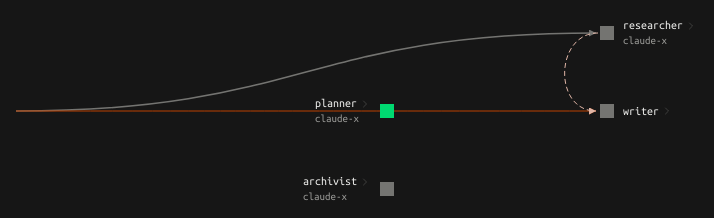
it: GraphField agents › counts a single run in the singular and places the readout left of a right-hand agent
Focus the link "researcher claude-x". click: (648, 33)
box: [600, 16, 697, 50]
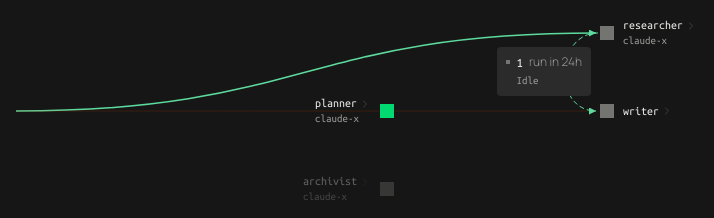
Check: the element showing "1 run in 24h Idle" is shown, box [497, 47, 591, 96]
